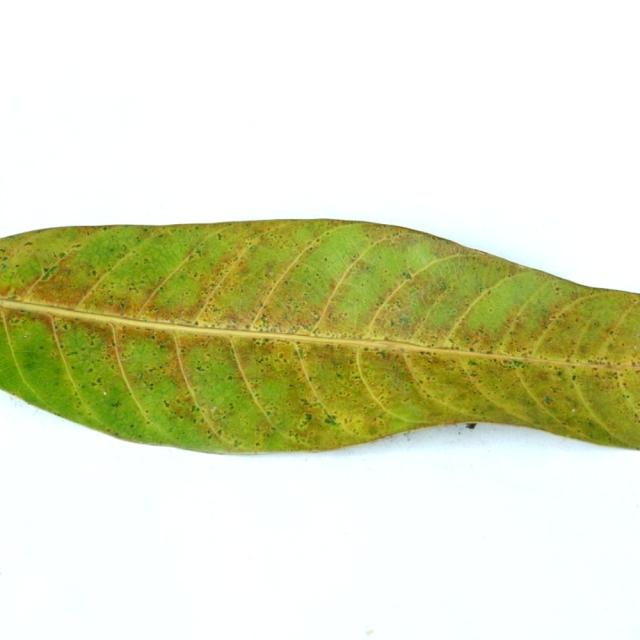Mango: (0, 220, 639, 451)
Powdery_Mildew: (70, 236, 130, 277), (0, 302, 42, 346), (449, 240, 507, 262), (153, 298, 200, 324), (382, 313, 425, 340), (111, 273, 149, 301), (115, 345, 155, 369), (464, 326, 500, 352), (321, 285, 355, 312), (615, 385, 638, 420), (318, 404, 344, 430), (215, 308, 248, 328), (313, 328, 357, 341), (196, 307, 223, 326), (8, 394, 33, 411), (85, 371, 109, 388), (347, 257, 372, 273), (424, 231, 449, 245), (251, 315, 271, 331), (55, 246, 68, 270), (40, 264, 59, 280), (296, 413, 314, 429), (235, 293, 246, 319), (21, 355, 40, 370), (397, 266, 412, 282), (299, 396, 317, 408), (588, 357, 611, 365), (7, 315, 23, 326), (510, 360, 526, 369), (253, 338, 268, 347), (384, 334, 399, 343), (398, 316, 410, 326), (156, 342, 168, 352), (466, 359, 479, 368), (467, 345, 480, 354), (58, 322, 69, 332), (135, 372, 146, 382), (213, 427, 223, 437), (606, 434, 616, 444), (629, 331, 638, 342), (193, 248, 202, 258), (437, 282, 447, 291), (109, 400, 121, 407), (190, 404, 199, 413), (304, 413, 313, 422), (544, 395, 553, 404), (334, 372, 343, 380), (144, 381, 153, 389), (393, 301, 402, 309), (476, 287, 485, 295), (6, 294, 18, 300), (635, 334, 640, 348), (465, 423, 476, 429), (195, 364, 203, 372), (312, 311, 320, 319), (118, 301, 125, 309), (163, 399, 170, 407), (476, 329, 484, 336), (365, 628, 373, 635), (56, 252, 65, 258), (556, 370, 563, 377), (463, 336, 470, 343), (107, 295, 114, 302), (205, 432, 212, 439), (255, 439, 262, 446), (111, 429, 118, 436), (210, 406, 217, 413), (217, 233, 223, 241), (23, 241, 32, 246), (635, 442, 640, 451), (559, 313, 566, 319), (73, 244, 81, 249), (226, 375, 232, 381), (389, 320, 395, 326), (228, 403, 234, 409), (609, 329, 615, 335), (554, 286, 560, 292), (1, 247, 7, 253), (571, 374, 576, 381), (102, 226, 109, 231), (130, 423, 135, 428), (636, 299, 640, 305), (636, 332, 640, 338), (488, 308, 493, 312), (102, 395, 106, 400), (324, 258, 328, 262), (572, 408, 576, 412), (1, 571, 3, 575)
